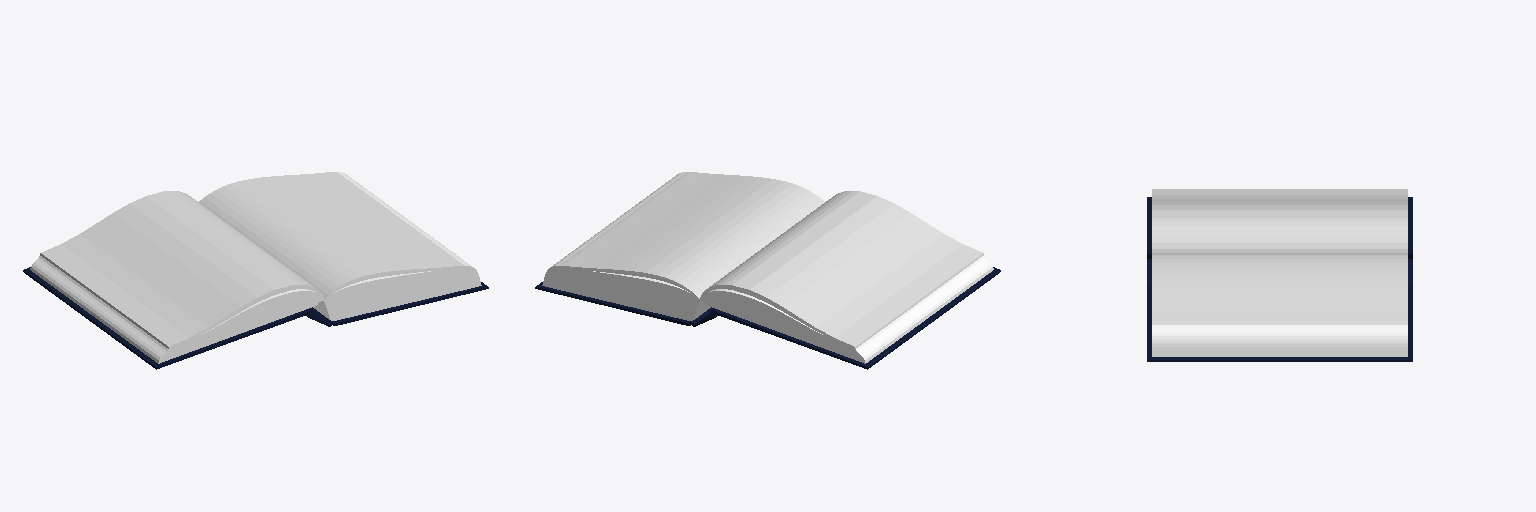
Rendered from book.obj.
The picture shows the model from 3 angles: view 1: azimuth 30°, elevation 25°; view 2: azimuth 150°, elevation 25°; view 3: azimuth 270°, elevation 25°; orthographic projection.
Visible parts, largest first — view 1: BOOK_OPENED; view 2: BOOK_OPENED; view 3: BOOK_OPENED.
Boxes of the visible parts, <box> form: BOOK_OPENED: <box>23,172,488,369</box>; BOOK_OPENED: <box>535,172,1000,369</box>; BOOK_OPENED: <box>1147,189,1412,361</box>.
Size of the model in its own units: 298 by 41.93 by 207.